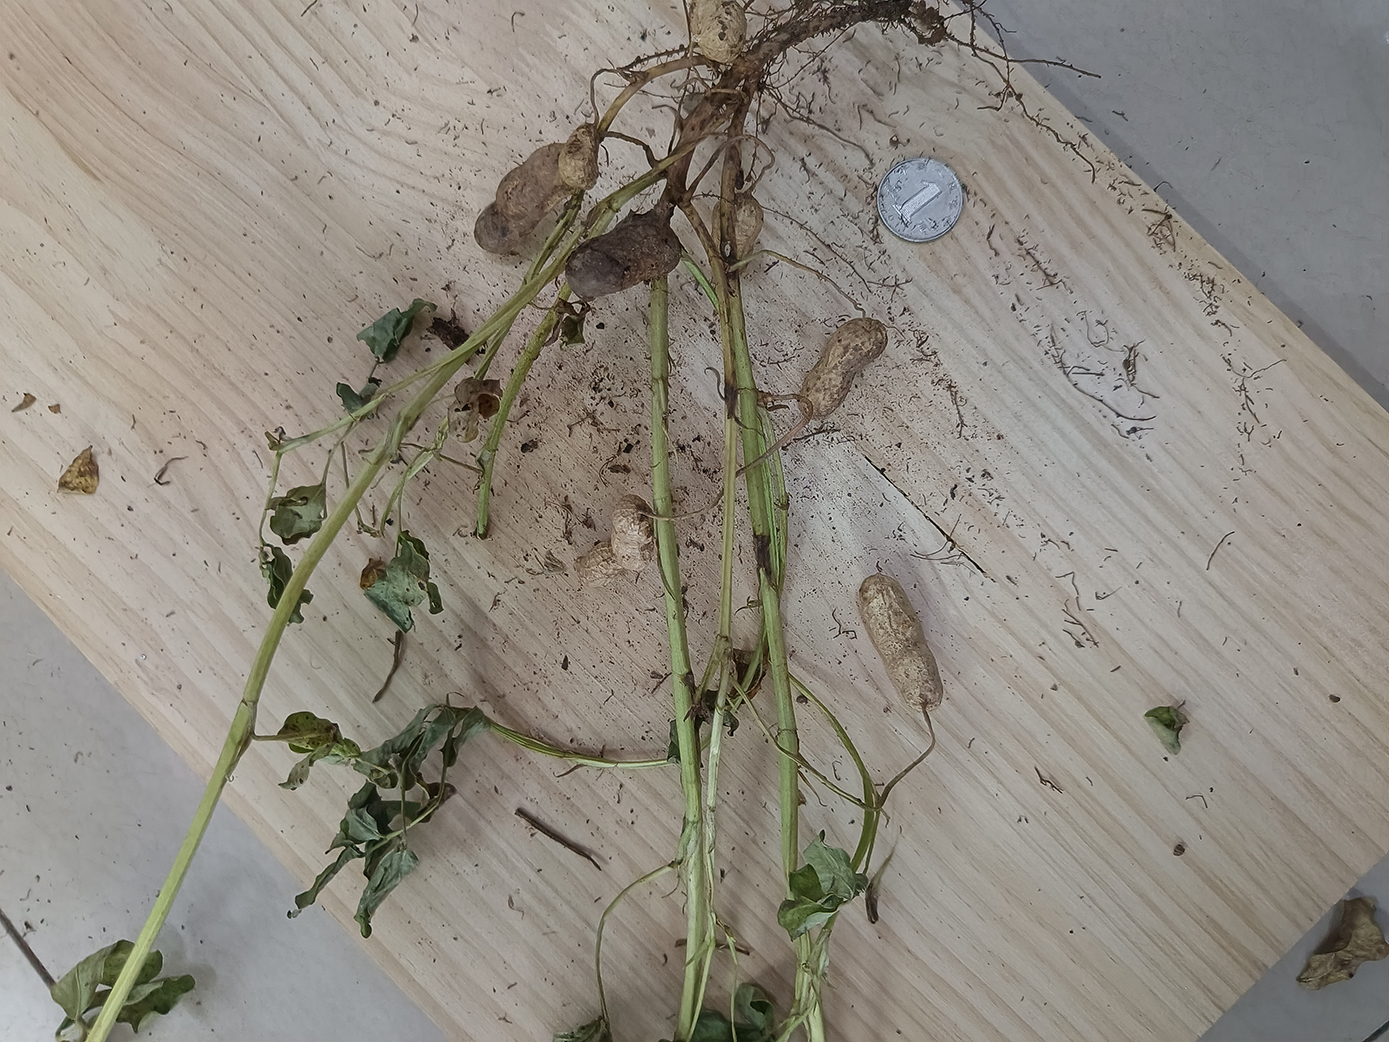h: (859, 576, 945, 710), (799, 317, 888, 420), (577, 496, 655, 582), (711, 200, 765, 278), (698, 1, 748, 65), (560, 124, 598, 187)
l: (568, 217, 681, 298), (476, 143, 557, 252)
